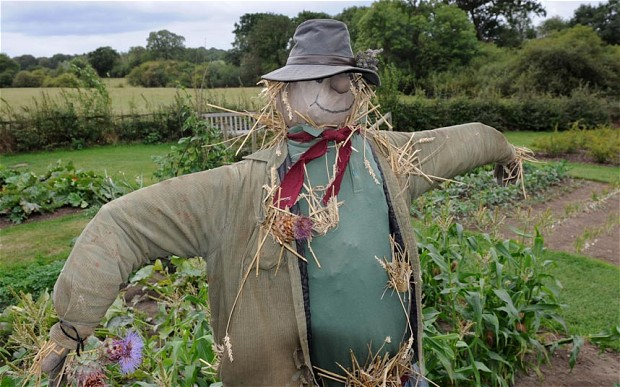person-like: (37, 12, 538, 387)
